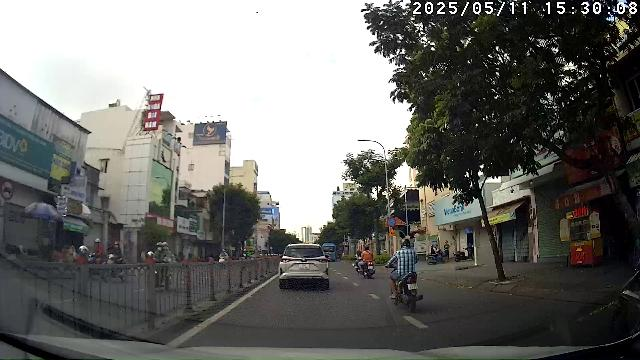131a-cam-do-xe: (386, 217, 397, 227)
